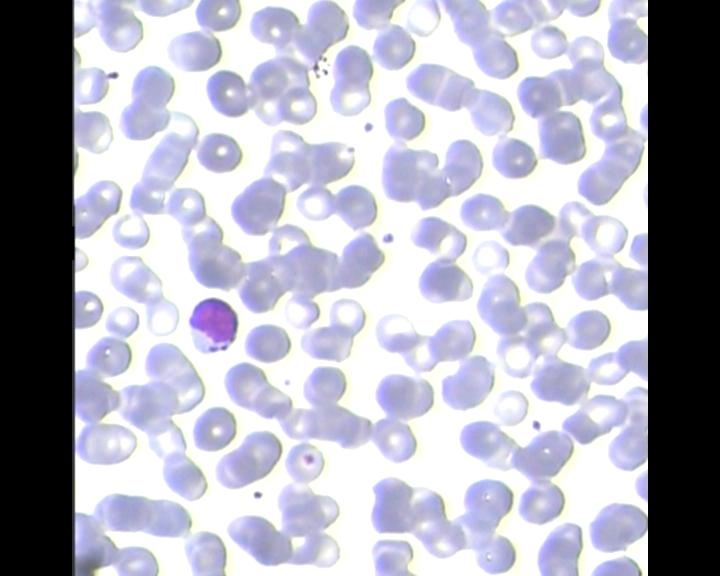lymp: (183, 295, 241, 360)
